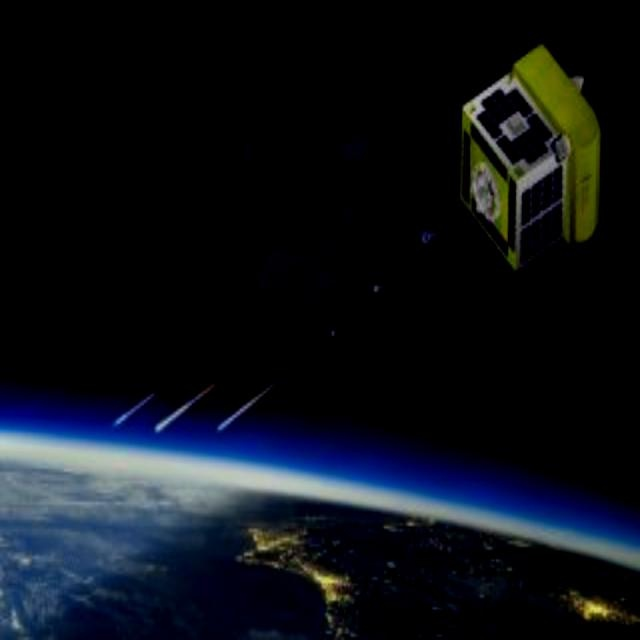satellite: (456, 30, 609, 277)
